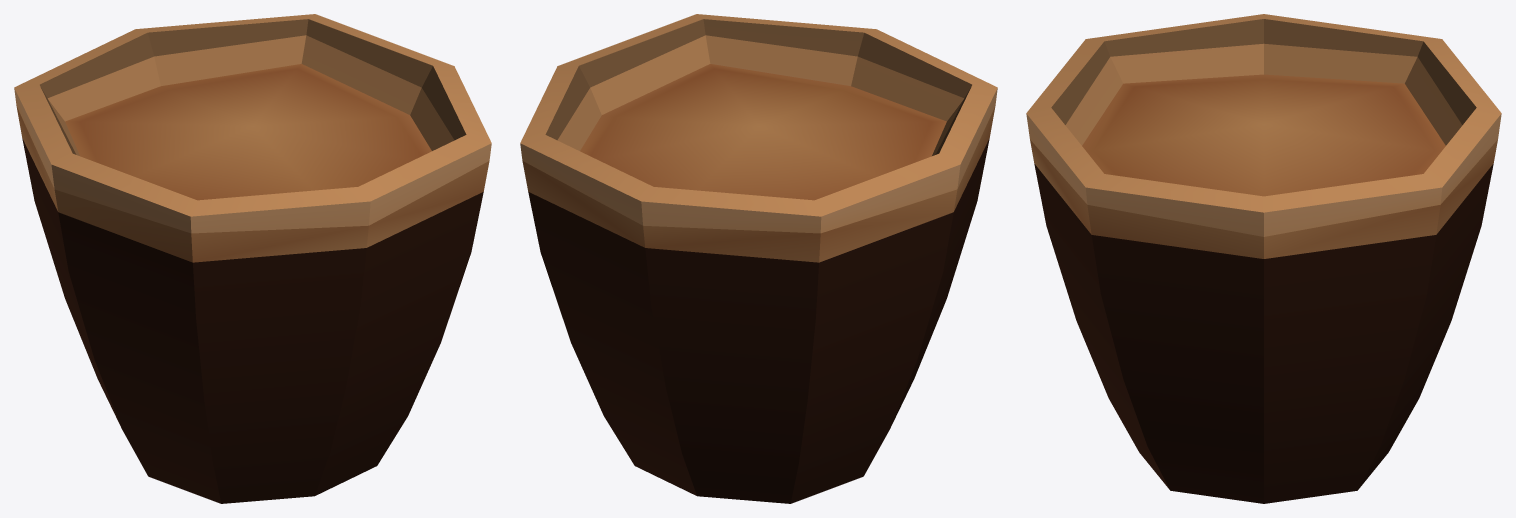
The model's file is espresso_drink.fbx.
3 renders of one model, left to right at view 1: azimuth 30°, elevation 25°; view 2: azimuth 150°, elevation 25°; view 3: azimuth 270°, elevation 25°, orthographic.
Visible parts, largest first — view 1: Espresso_Drink; view 2: Espresso_Drink; view 3: Espresso_Drink.
Part boxes in pixels (x1=…): Espresso_Drink: x1=14, y1=14, x2=491, y2=503; Espresso_Drink: x1=520, y1=14, x2=997, y2=503; Espresso_Drink: x1=1026, y1=14, x2=1501, y2=503.
Bounding box in the file's own units: 7.97 × 6.45 × 8.06.
